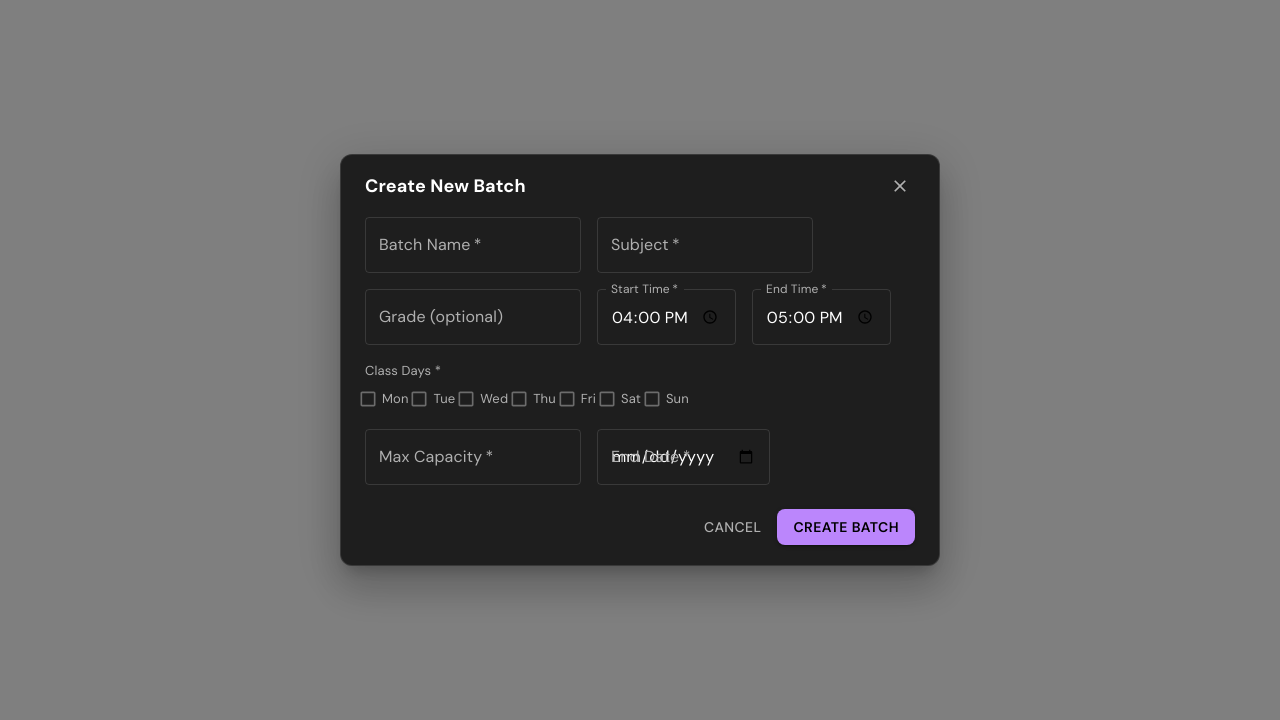
Test: CreateBatchModal › shows validation errors when submitted with empty fields
Click the button "Create Batch": [846, 527] box [777, 508, 915, 545]
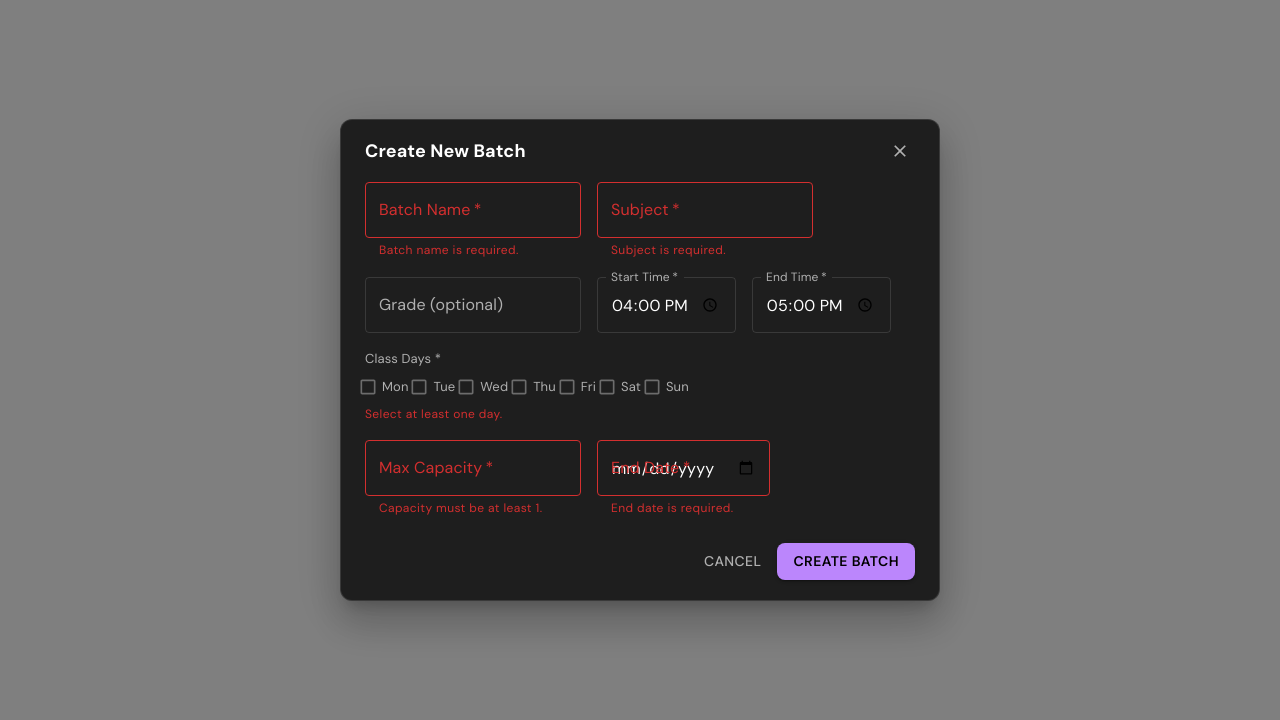
Expected: the text "Batch name is required." is shown, [379, 242, 519, 258]
Expected: the text "Subject is required." is shown, [611, 242, 726, 258]
Expected: the text "Select at least one day." is shown, [365, 406, 502, 422]
